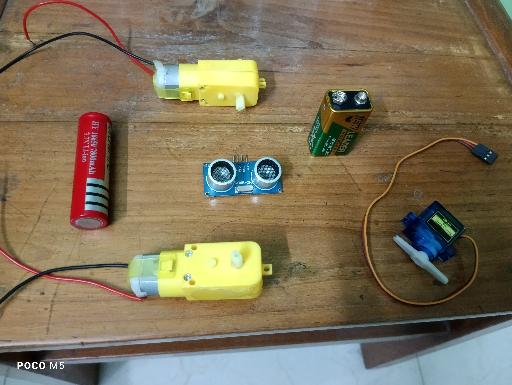Battery: (69, 112, 113, 230), (307, 88, 374, 159)
Motor: (128, 241, 273, 302), (392, 200, 466, 286), (152, 59, 266, 111)
sensor: (202, 155, 284, 198)
